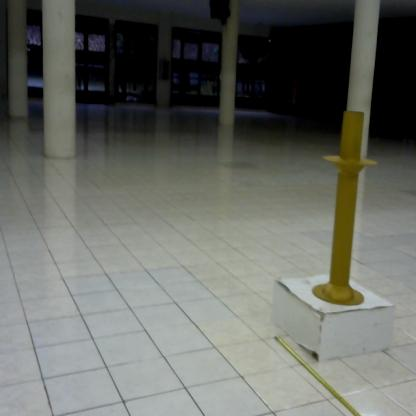pole: (307, 100, 384, 312)
